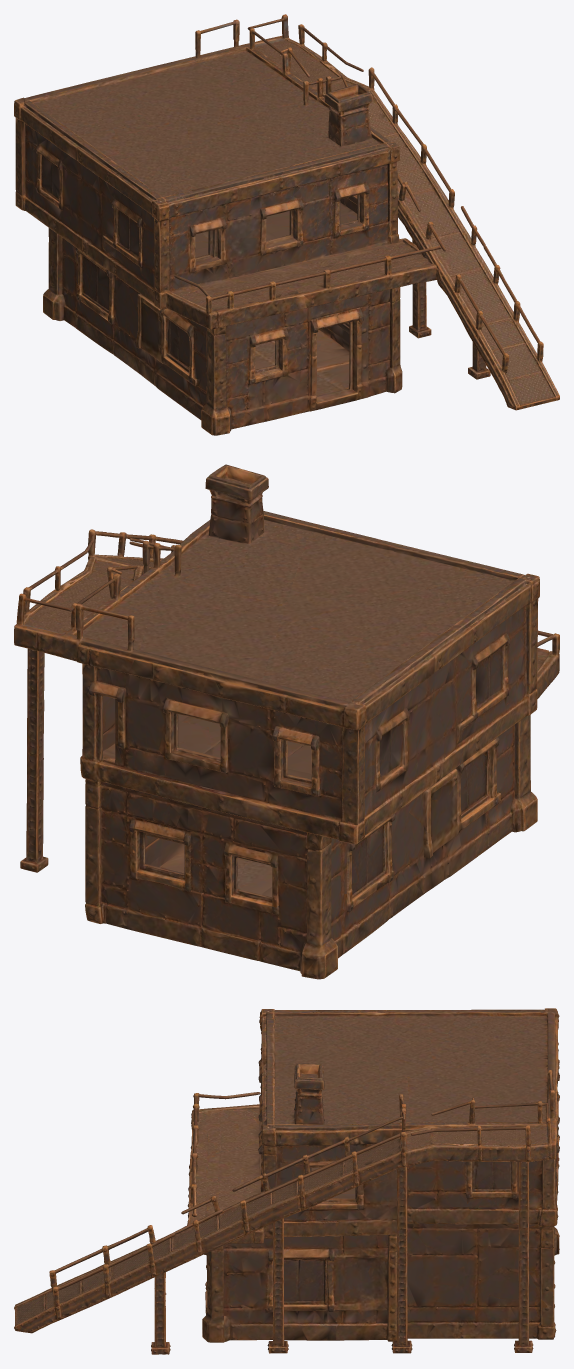
File: metal-house.glb
3 renders of one model, top to bottom at view 1: azimuth 30°, elevation 25°; view 2: azimuth 150°, elevation 25°; view 3: azimuth 270°, elevation 25°, orthographic. The views are drawn at different scales.
Bounding box in the file's own units: 1.2 × 1.04 × 1.9.
Materials: 1 (1 with a texture image).
